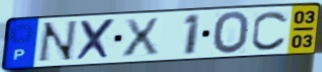1: (182, 12, 201, 57)
C: (249, 9, 291, 52)
N: (34, 19, 80, 65)
O: (211, 10, 252, 56)
X: (74, 17, 118, 63), (121, 16, 161, 59)
